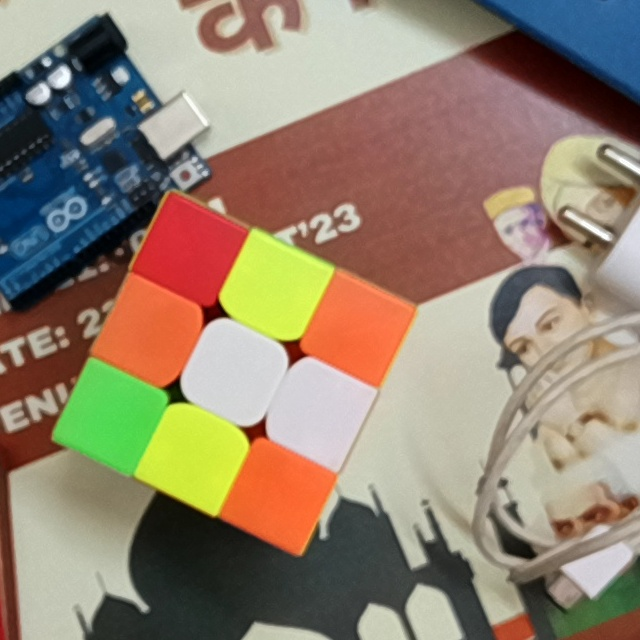tile: (245, 461, 312, 527), (77, 383, 143, 449), (201, 339, 266, 405), (160, 425, 227, 489), (119, 299, 182, 365), (287, 377, 350, 442), (325, 299, 391, 361), (241, 257, 305, 320), (157, 222, 222, 283)
